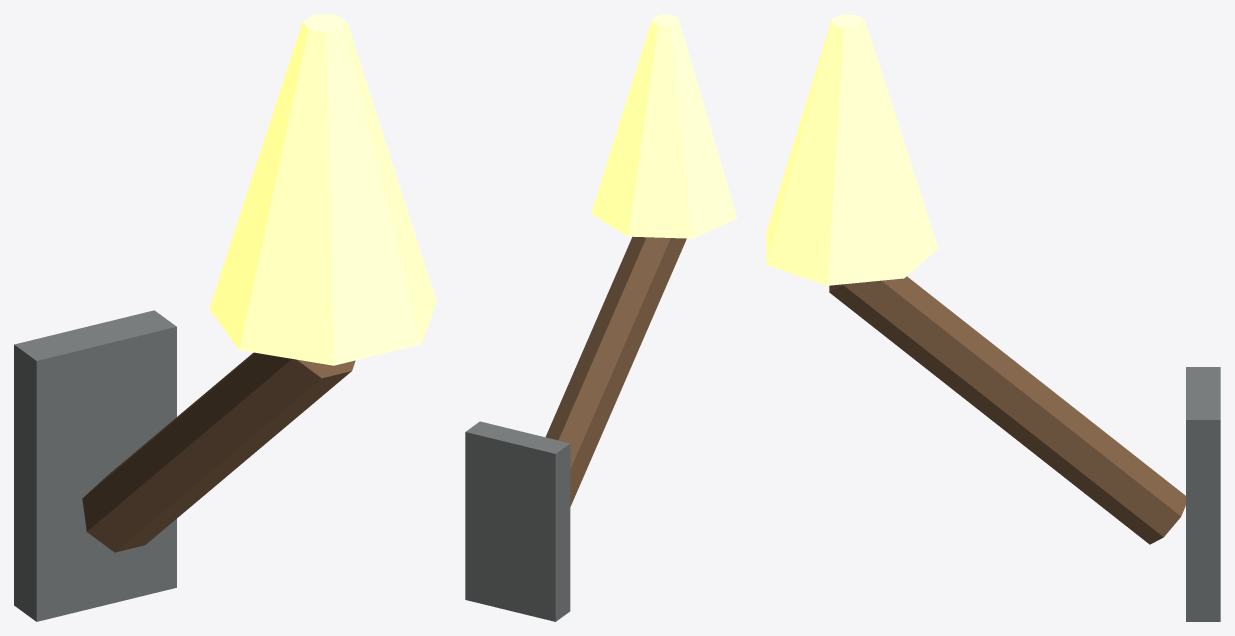
The model's file is wall_torch_01.glb.
3 renders of one model, left to right at view 1: azimuth 30°, elevation 25°; view 2: azimuth 150°, elevation 25°; view 3: azimuth 270°, elevation 25°, orthographic. The views are drawn at different scales.
Visible parts, largest first — view 1: wall_torch_01; view 2: wall_torch_01; view 3: wall_torch_01.
Part boxes in pixels (x1,y1,x2,y2): wall_torch_01: (14,14,436,621); wall_torch_01: (465,14,737,621); wall_torch_01: (766,14,1220,621).
Size of the model in its own units: 0.2535 by 0.9094 by 0.6521.
